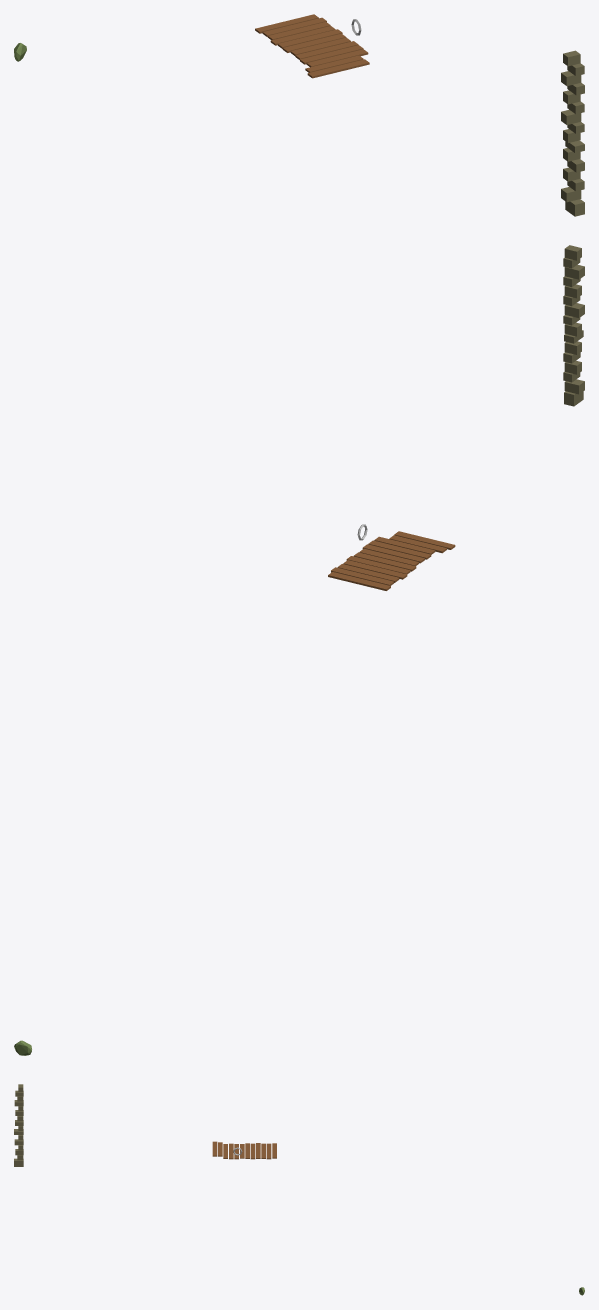
3 views of the same model, one above another, from view 1: azimuth 30°, elevation 25°; view 2: azimuth 150°, elevation 25°; view 3: azimuth 270°, elevation 25° (orthographic). The views are drawn at different scales.
Visible parts, largest first — view 1: Plane365_brown_0, Box15772_rock2_0; view 2: Plane365_brown_0, Box15772_rock2_0; view 3: Plane365_brown_0, Box15772_rock2_0.
Boxes of the visible parts, x1=… form: Plane365_brown_0: x1=255, y1=14, x2=369, y2=78; Box15772_rock2_0: x1=561, y1=50, x2=584, y2=216; Plane365_brown_0: x1=328, y1=531, x2=455, y2=590; Box15772_rock2_0: x1=563, y1=245, x2=584, y2=406; Plane365_brown_0: x1=212, y1=1141, x2=276, y2=1159; Box15772_rock2_0: x1=14, y1=1084, x2=23, y2=1166.
Bounding box in the file's own units: 363 × 1781 × 4417.
